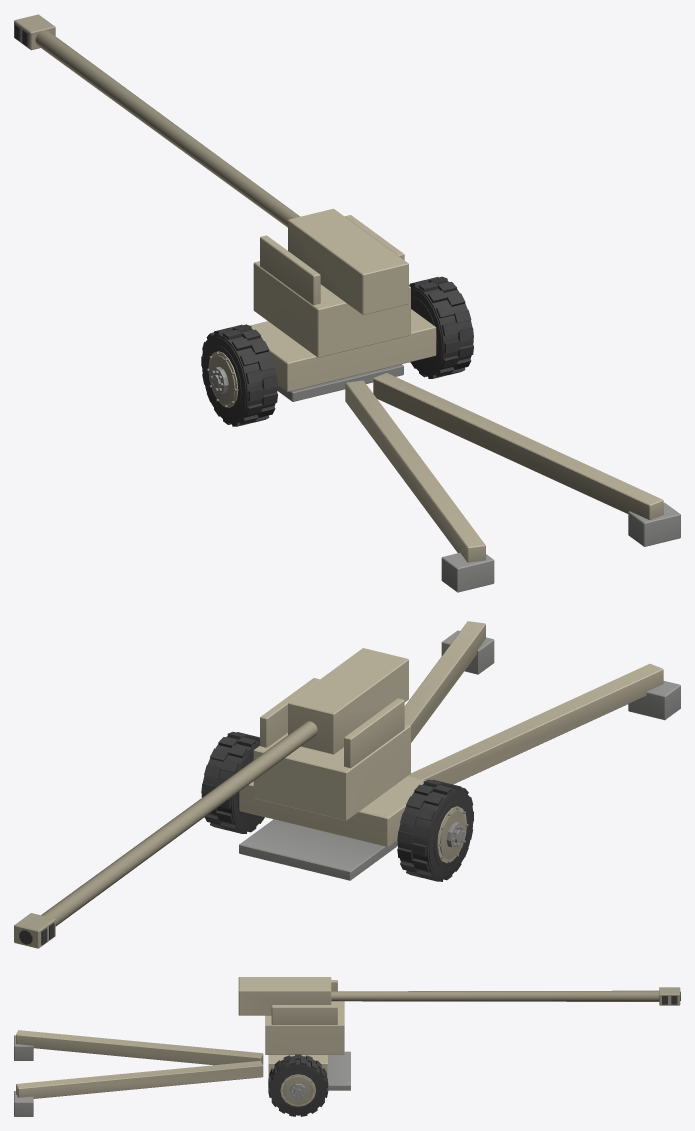
File: usa_tow_m777.glb
3 renders of one model, top to bottom at view 1: azimuth 30°, elevation 25°; view 2: azimuth 150°, elevation 25°; view 3: azimuth 270°, elevation 25°, orthographic. The views are drawn at different scales.
Parts seen in each view (by area): view 1: body, barrel, turret, wheel_0, wheel_1; view 2: body, barrel, turret, wheel_0, wheel_1; view 3: body, barrel, turret, wheel_1.
Boxes of the visible parts, bbox=[...] form: body: bbox=[250, 309, 680, 592]; barrel: bbox=[14, 14, 408, 315]; turret: bbox=[253, 215, 410, 357]; wheel_0: bbox=[201, 324, 277, 426]; wheel_1: bbox=[409, 276, 473, 378]; body: bbox=[239, 621, 680, 880]; barrel: bbox=[14, 648, 408, 948]; turret: bbox=[253, 678, 410, 820]; wheel_0: bbox=[397, 779, 473, 881]; wheel_1: bbox=[201, 732, 264, 833]; body: bbox=[14, 1030, 350, 1116]; barrel: bbox=[238, 977, 680, 1015]; turret: bbox=[265, 980, 344, 1054]; wheel_1: bbox=[268, 1054, 328, 1116].
Size of the model in its own units: 2.62 by 1.67 by 10.09.
